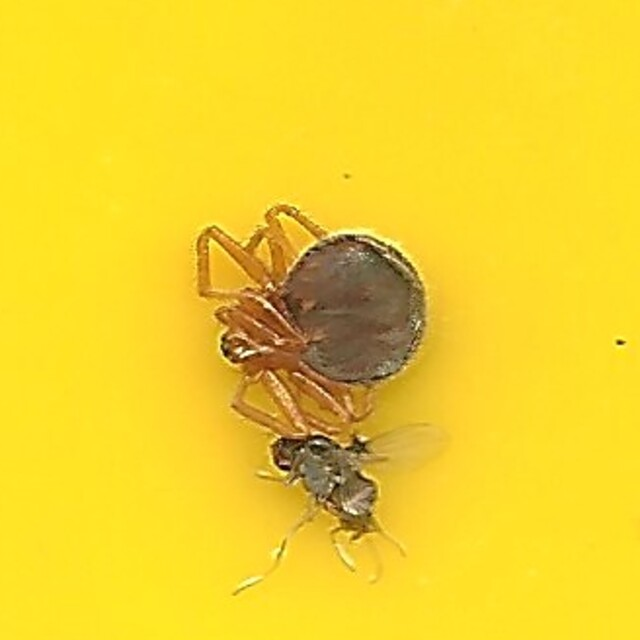Araneae: (195, 184, 445, 456)
